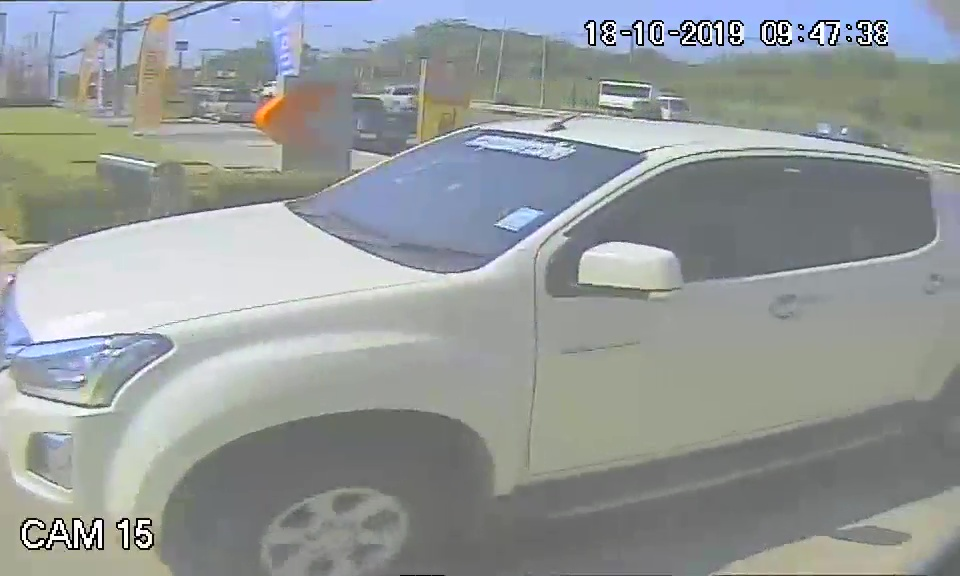pickup: (4, 114, 959, 516)
